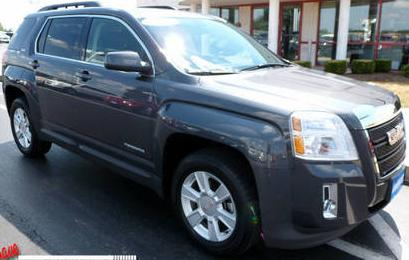front_view: (281, 104, 408, 237)
headlight: (271, 105, 352, 155)
side_glass: (41, 15, 172, 82)
